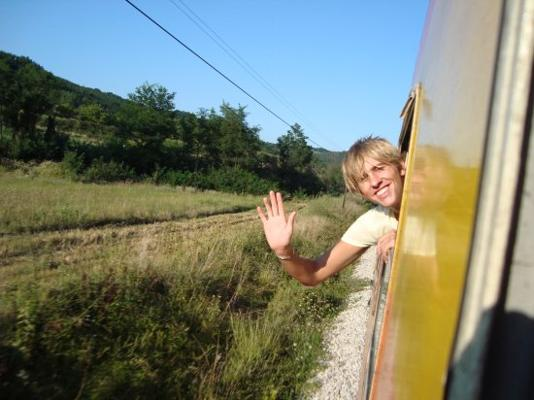person: (255, 136, 404, 284)
